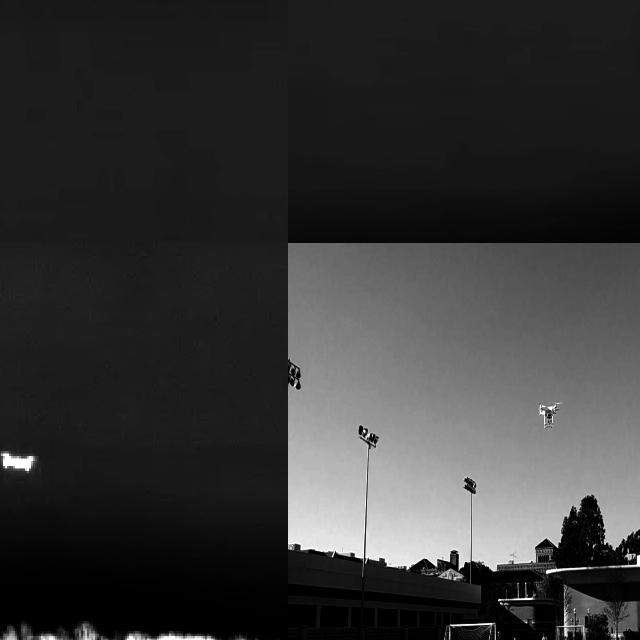1: (0, 446, 47, 481)
drone: (538, 398, 562, 425)
